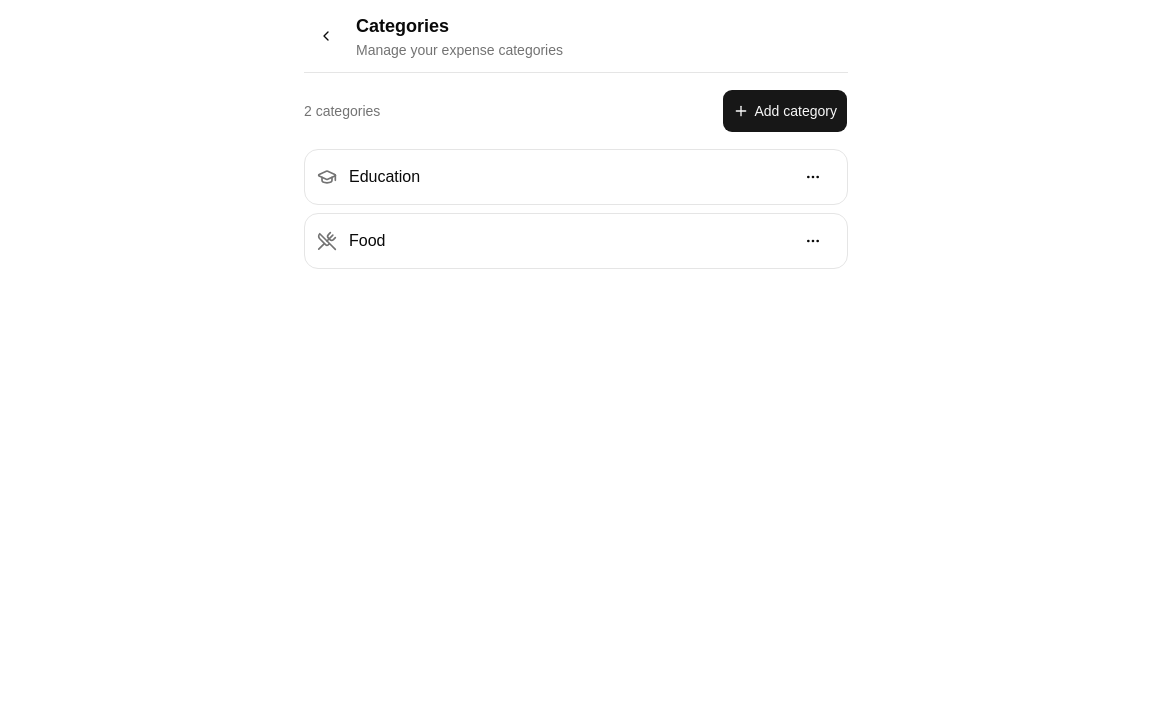
Test case: category management › puts a duplicate create response on the field and focuses it
This screenshot has width=1152, height=720.
Click the button "Add category" at (785, 111), box [722,89,848,133]
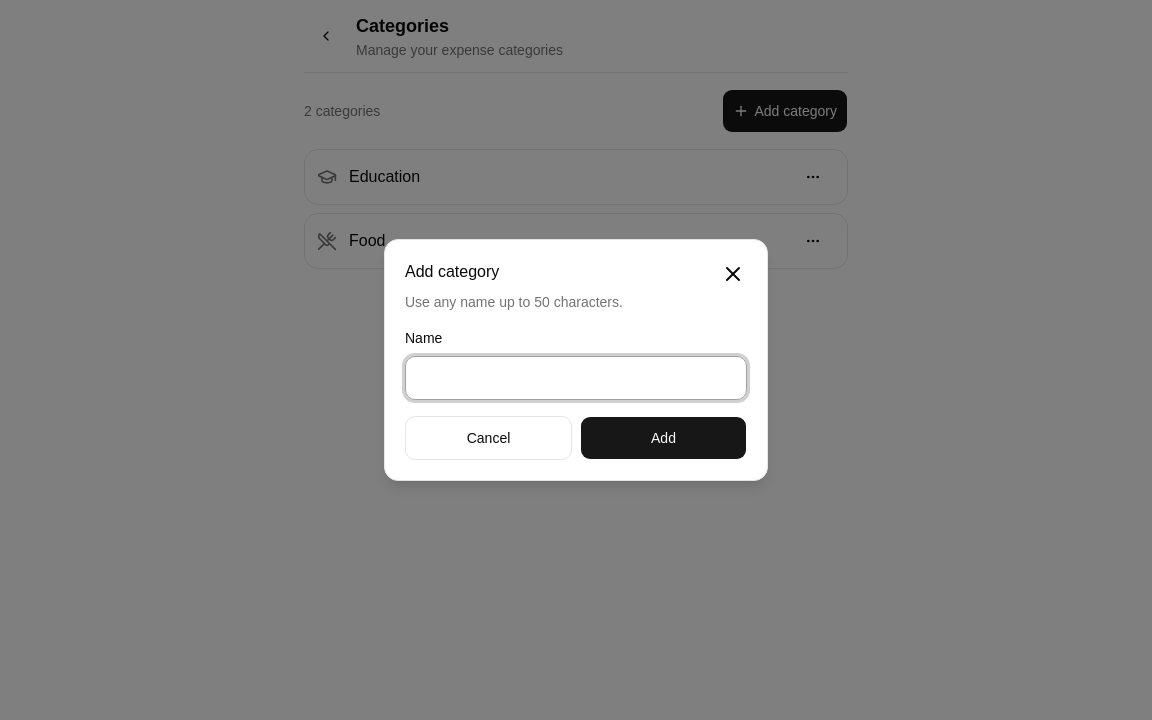
Type "Kopi & Roti" into the field named "Category name" at (576, 378), box [405,356,747,400]
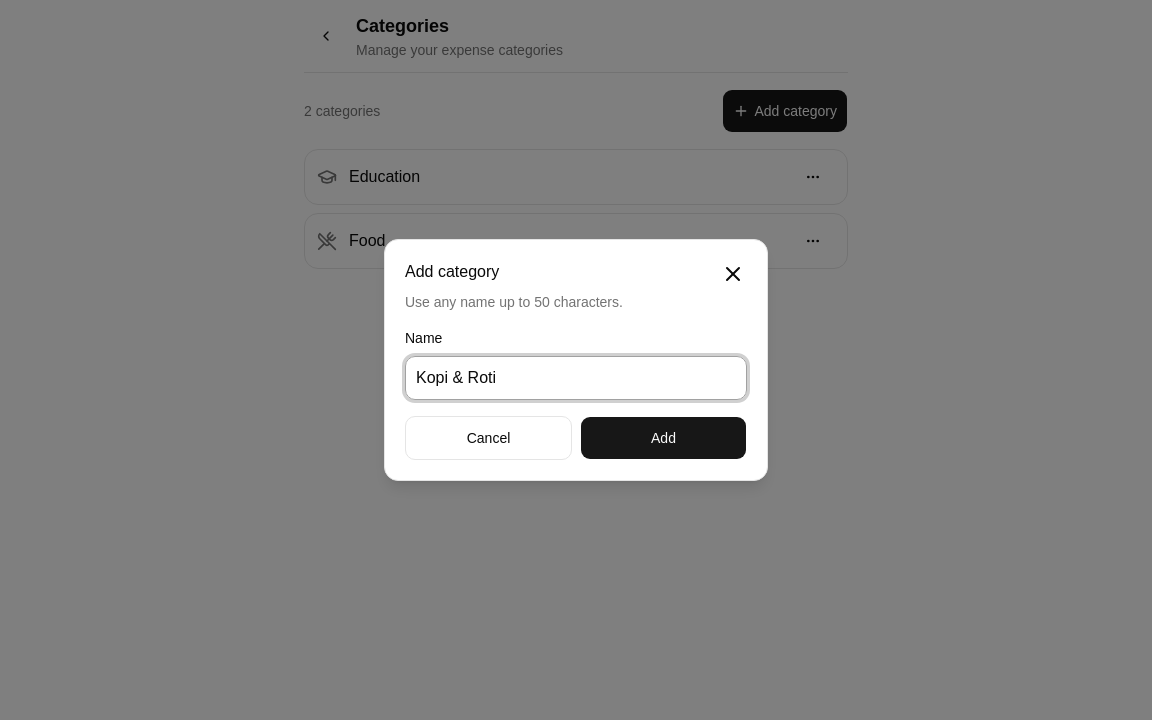
Click the button "Add" at (664, 438), box [580,416,747,460]
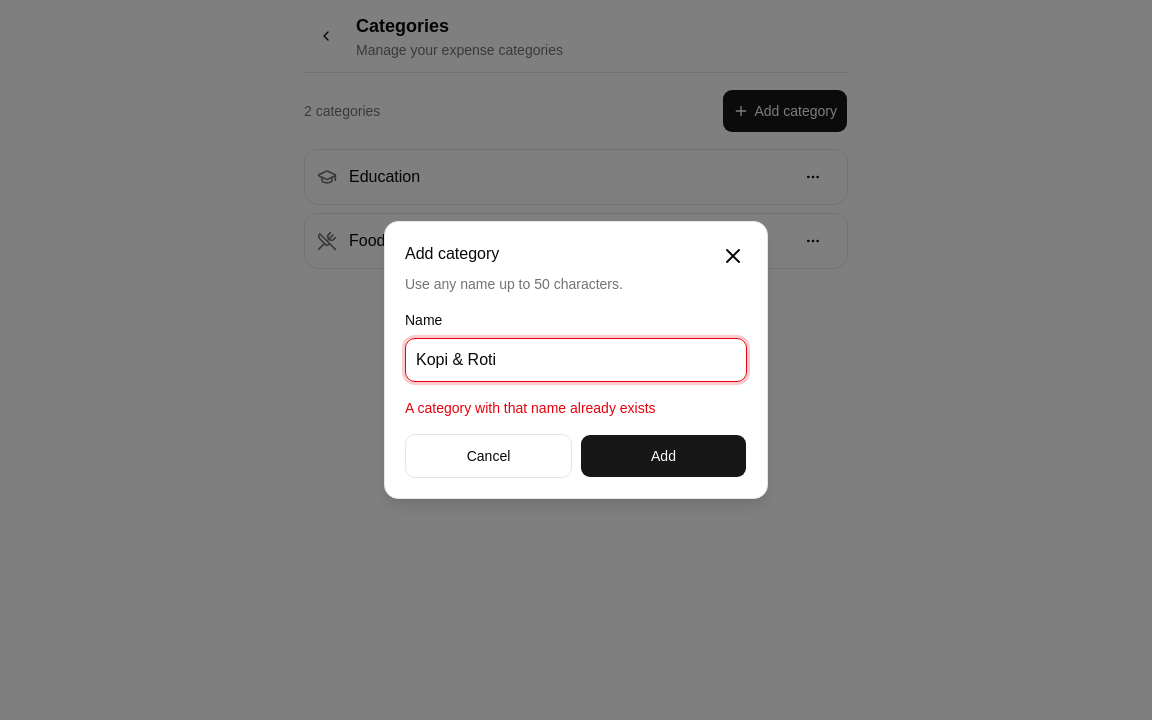
Check: the text "A category with that name already exists" is shown, box [405,400,656,416]
